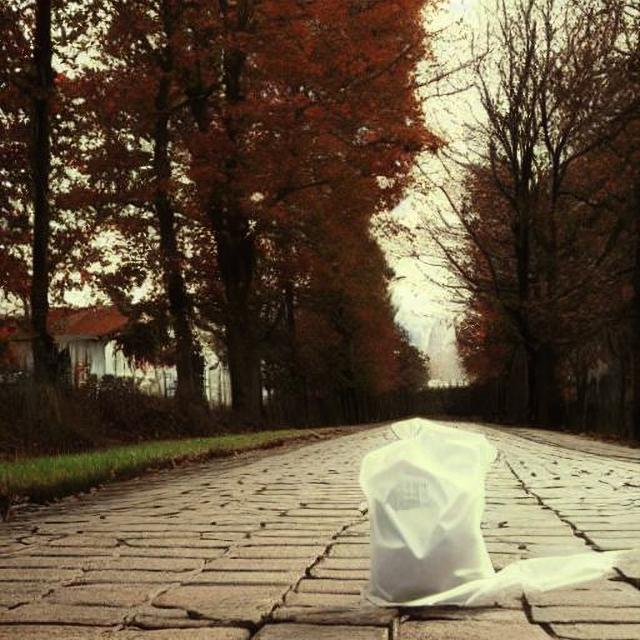floating object: (358, 425, 487, 602)
